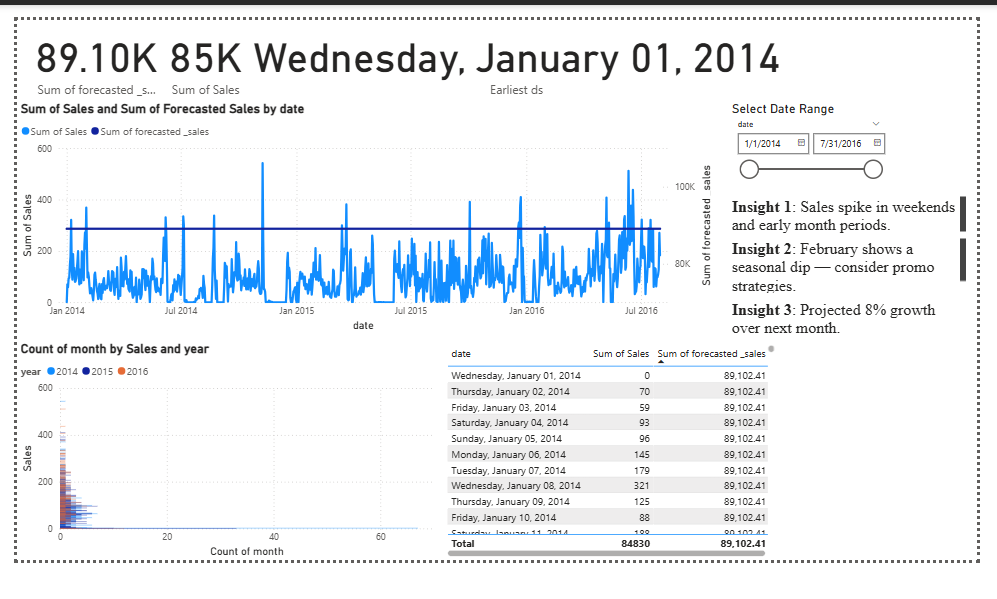

What the dashboard file says about the page in this screenshot:
{"tool":"powerbi","page":{"name":"Page 1","canvas":[1280,720],"ordinal":0},"visuals":[{"type":"card","fields":{"Values":["Sum(forecast_output.yhat)"]},"box":[18.9,0,175.6,107.8],"z":0},{"type":"card","fields":{"Values":["Sum(mock_kaggle.Sales)"]},"box":[194.4,0,114.4,107.8],"z":1000},{"type":"card","fields":{"Values":["Min(forecast_output.ds)"]},"box":[308.9,0,715.6,107.8],"z":2000},{"type":"lineChart","title":"Sum of Sales and Sum of Forecasted Sales by date","fields":{"Category":["mock_kaggle.date"],"Y":["Sum(mock_kaggle.Sales)"],"Y2":["Sum(forecast_output.yhat)"]},"box":[0,107.8,930,311.1],"z":3000},{"type":"slicer","title":"Select Date Range","fields":{"Values":["mock_kaggle.date"]},"box":[947.6,107.4,214.8,106.2],"z":4000},{"type":"clusteredBarChart","fields":{"Category":["mock_kaggle.Sales"],"Y":["CountNonNull(mock_kaggle.month)"],"Series":["mock_kaggle.year"]},"box":[0,427.5,567.5,292.5],"z":5000},{"type":"tableEx","fields":{"Values":["mock_kaggle.date","Sum(mock_kaggle.Sales)","Sum(forecast_output.yhat)"]},"box":[567.6,427.2,447.3,292.7],"z":6000},{"type":"textbox","box":[947.6,230.1,322.2,66.1],"z":7000},{"type":"textbox","box":[947.6,285.6,322.2,82.6],"z":8000},{"type":"textbox","box":[947.6,368.2,322.2,59],"z":9000}]}

Visuals, with their boxes on the page's 1280x720 design canvas (x1, y1, x2, y2). These are canvas units, not pixel positions in the 997x599 screenshot, which may show the page scaled, cropped or inside an application window:
card - Sum(forecast_output.yhat): <box>19,0,194,108</box>
card - Sum(mock_kaggle.Sales): <box>194,0,309,108</box>
card - Min(forecast_output.ds): <box>309,0,1024,108</box>
"Sum of Sales and Sum of Forecasted Sales by date" lineChart: <box>0,108,930,419</box>
"Select Date Range" slicer: <box>948,107,1162,214</box>
clusteredBarChart - mock_kaggle.Sales x CountNonNull(mock_kaggle.month): <box>0,428,568,720</box>
tableEx - mock_kaggle.date x Sum(mock_kaggle.Sales): <box>568,427,1015,720</box>
textbox: <box>948,230,1270,296</box>
textbox: <box>948,286,1270,368</box>
textbox: <box>948,368,1270,427</box>
